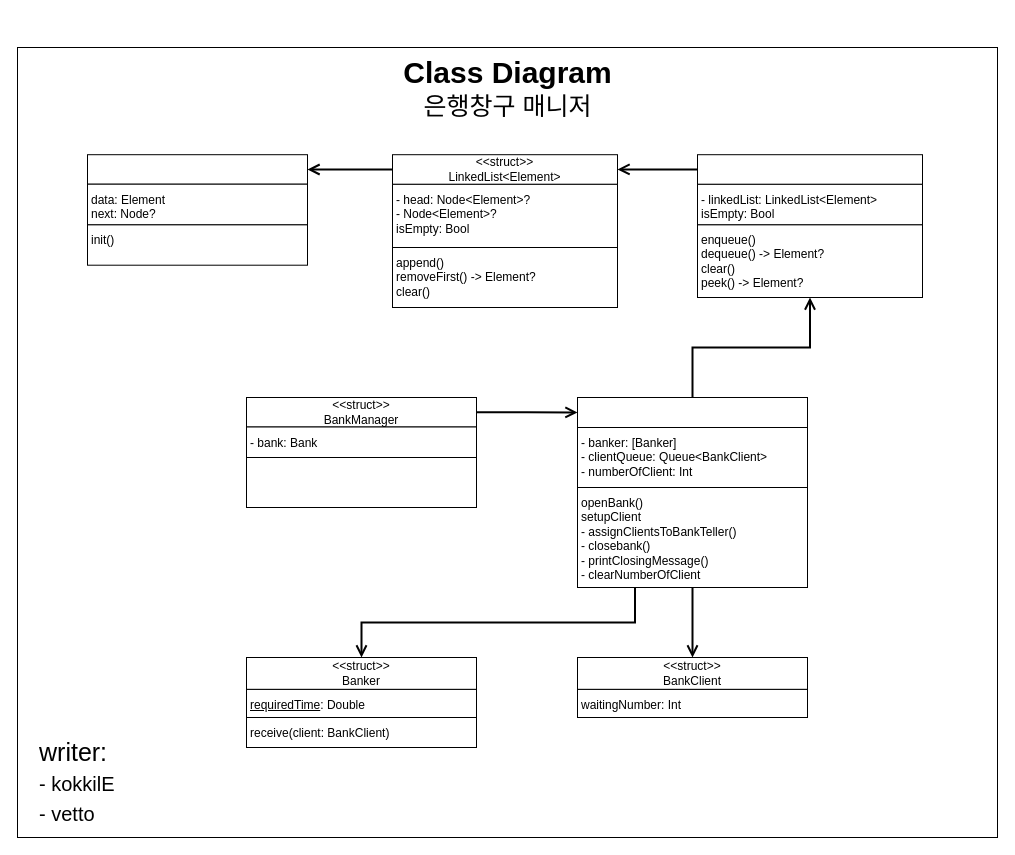
The diagram is 1015 pixels wide and 855 high, and some of its shapes have lost their labels. Each missing label, with the centre of its shape:
"<<class>> Bank" belongs at [692,412].
"<<class>> Node" belongs at [197,169].
"<<struct>> Queue<Element>" belongs at [809,169].
"startBankManager() - printBankMenu()" belongs at [361,482].
